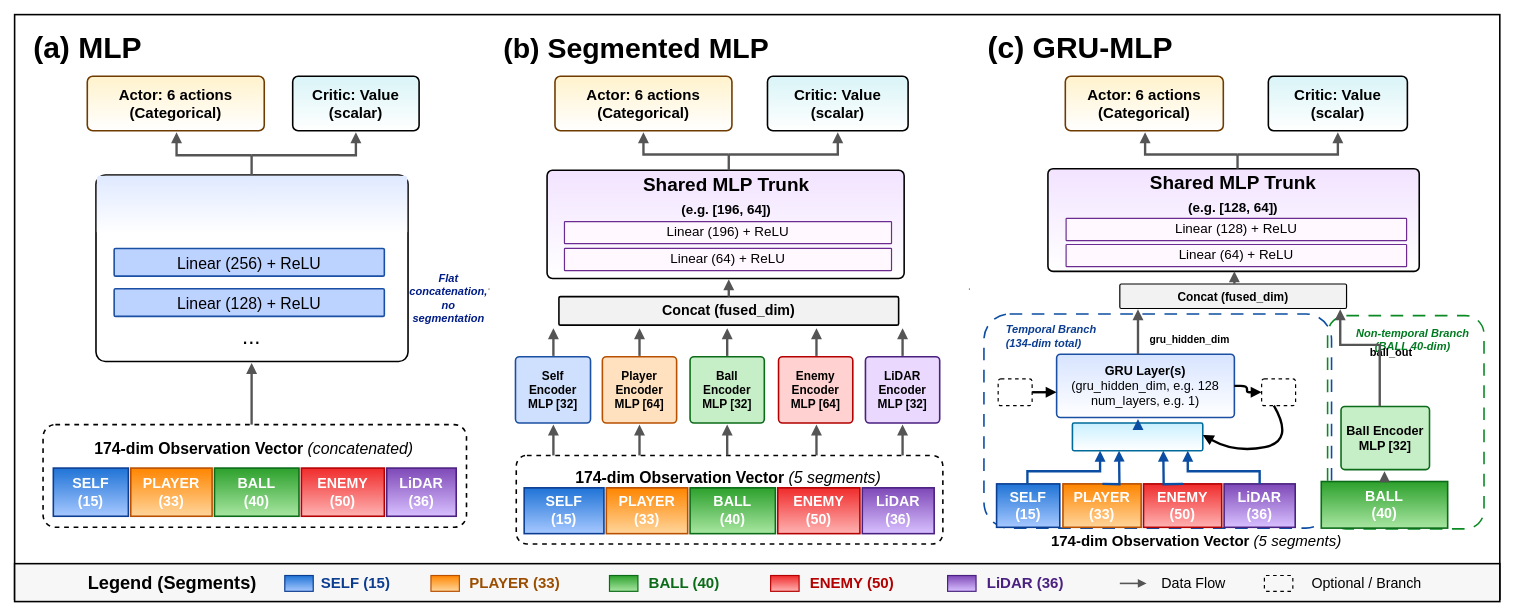
Some shapes in this 1514 by 615 pixel diagram are drawn without their labels. The shapes that lost their labels are listed below. From the top down, each one's centre as x and y in pixels, then its label:
At (251,204): "MLP Trunk (hidden layers, e.g. [256, 128])".
At (1014,392): "h t-1".
At (1278,392): "h t".
At (1137,436): "LayerNorm".
